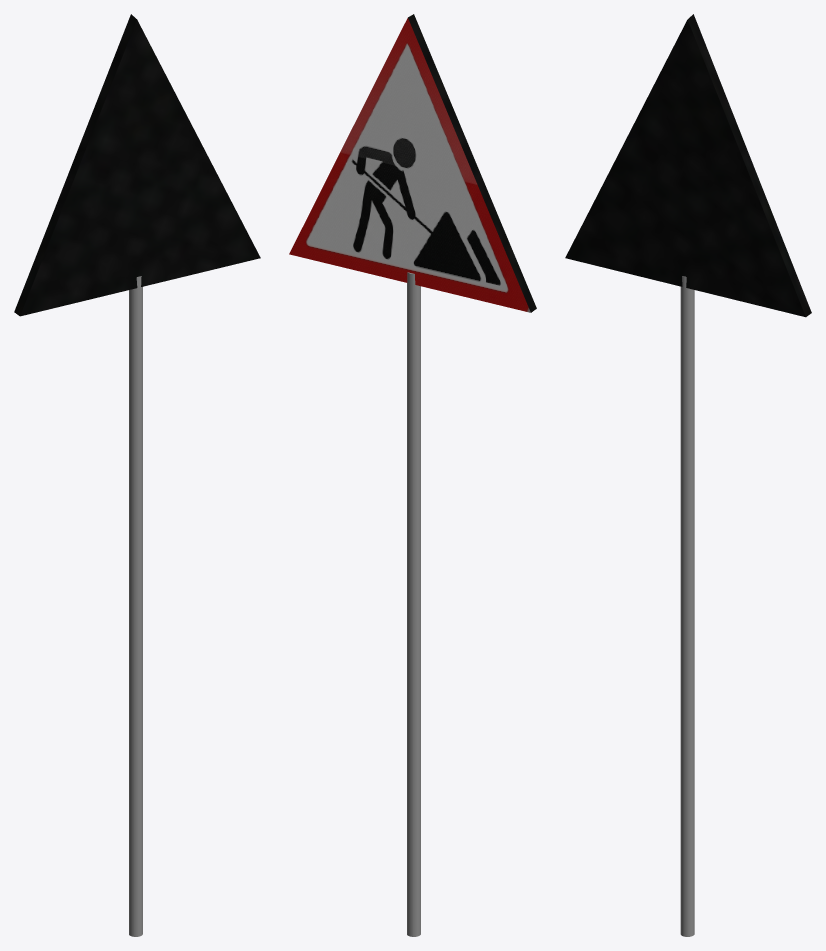
File: under_cons.glb
3 renders of one model, left to right at view 1: azimuth 30°, elevation 25°; view 2: azimuth 150°, elevation 25°; view 3: azimuth 330°, elevation 25°, orthographic.
Parts seen in each view (by area): view 1: Cube, Cylinder; view 2: Cube, Cylinder; view 3: Cube, Cylinder.
Boxes of the visible parts, x1,y1,x2,y2 form: Cube: (14,14,260,316); Cylinder: (129,276,142,936); Cube: (289,14,536,312); Cylinder: (407,272,420,936); Cube: (565,14,811,317); Cylinder: (680,276,694,936).
Bounding box in the file's own units: 1.33 × 4.85 × 0.086.
2 materials, 1 textured.
